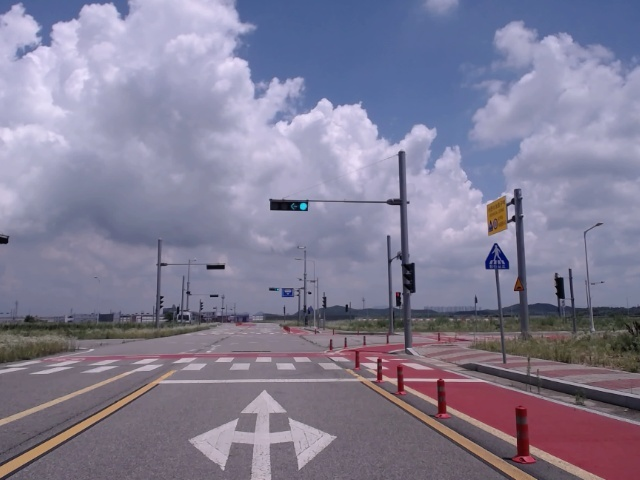all_green_4: (267, 198, 310, 214)
